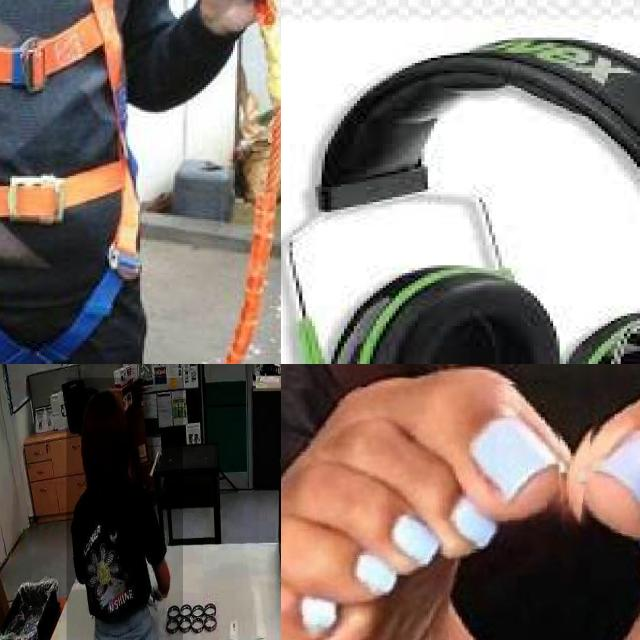Barefoots: (281, 364, 566, 640)
Ear-protection: (326, 45, 640, 364)
Harness: (0, 0, 142, 364)
head_nohelmet: (81, 389, 127, 431)
person: (66, 377, 183, 640)
